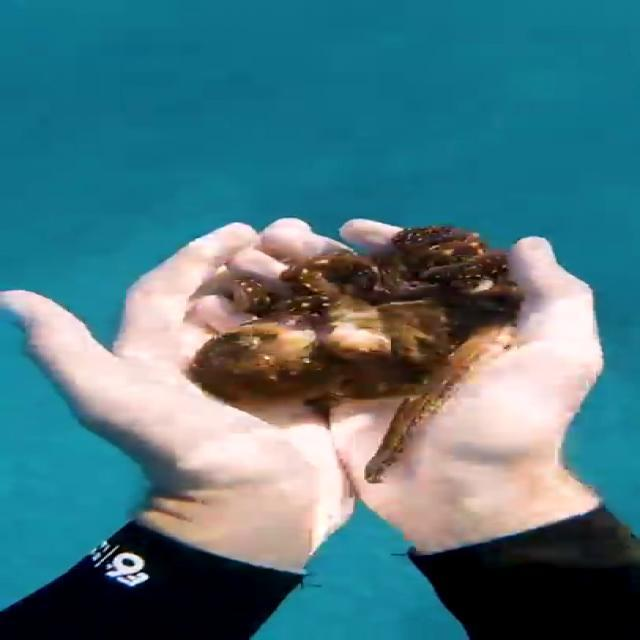octopus: (192, 225, 518, 483)
